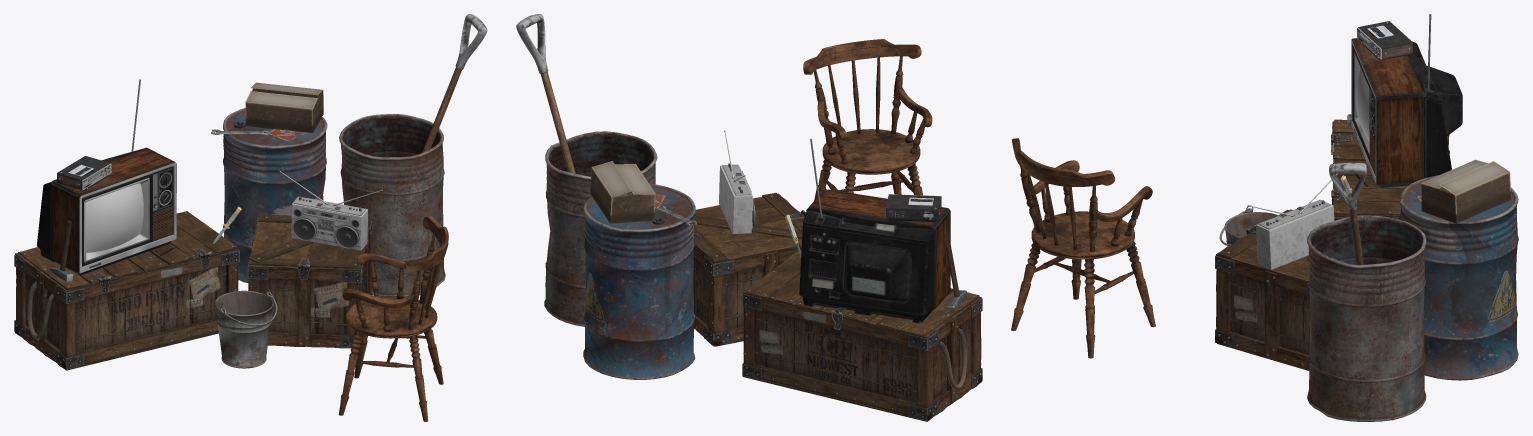
Rendered from Mafia_Assets_Scene_2_0.fbx.
3 renders of one model, left to right at view 1: azimuth 30°, elevation 25°; view 2: azimuth 150°, elevation 25°; view 3: azimuth 270°, elevation 25°, orthographic. The views are drawn at different scales.
Parts seen in each view (by area): view 1: vedro_low.005, vedro_low.004, vedro_low.006, vedro_low.013, vedro_low.008, vedro_low.007, vedro_low.012, vedro_low.010, vedro_low.001, vedro_low.003, vedro_low.009, vedro_low.017 (+1 smaller); view 2: vedro_low.005, vedro_low.013, vedro_low.008, vedro_low.006, vedro_low.007, vedro_low.004, vedro_low.001, vedro_low.010, vedro_low.009, vedro_low.017, vedro_low.016; view 3: vedro_low.004, vedro_low.013, vedro_low.008, vedro_low.007, vedro_low.006, vedro_low.001, vedro_low.010, vedro_low.005, vedro_low.017, vedro_low.009, vedro_low.012, vedro_low.003.
Part boxes in pixels (<box>): vedro_low.005: <box>14,211,239,370</box>; vedro_low.004: <box>316,114,445,296</box>; vedro_low.006: <box>247,214,371,348</box>; vedro_low.013: <box>223,108,326,282</box>; vedro_low.008: <box>37,79,176,275</box>; vedro_low.007: <box>338,216,448,421</box>; vedro_low.012: <box>214,289,277,368</box>; vedro_low.010: <box>280,171,382,250</box>; vedro_low.001: <box>245,82,323,132</box>; vedro_low.003: <box>85,183,143,252</box>; vedro_low.009: <box>422,14,487,152</box>; vedro_low.017: <box>57,156,111,190</box>; vedro_low.005: <box>742,251,982,421</box>; vedro_low.013: <box>583,184,695,379</box>; vedro_low.008: <box>799,138,950,323</box>; vedro_low.006: <box>693,192,806,346</box>; vedro_low.007: <box>803,39,932,200</box>; vedro_low.004: <box>544,131,657,326</box>; vedro_low.001: <box>590,161,655,223</box>; vedro_low.010: <box>719,130,755,234</box>; vedro_low.009: <box>516,14,575,173</box>; vedro_low.017: <box>885,194,941,221</box>; vedro_low.016: <box>945,244,967,308</box>; vedro_low.004: <box>1307,207,1436,421</box>; vedro_low.013: <box>1399,175,1518,380</box>; vedro_low.008: <box>1351,14,1462,187</box>; vedro_low.007: <box>1011,138,1155,358</box>; vedro_low.006: <box>1215,209,1310,370</box>; vedro_low.001: <box>1420,159,1511,223</box>; vedro_low.010: <box>1247,173,1337,269</box>; vedro_low.005: <box>1331,119,1450,220</box>; vedro_low.017: <box>1357,21,1412,60</box>; vedro_low.009: <box>1329,162,1366,265</box>; vedro_low.012: <box>1219,205,1278,246</box>; vedro_low.003: <box>1355,67,1369,141</box>.
Size of the model in its own units: 286 by 156 by 260.
